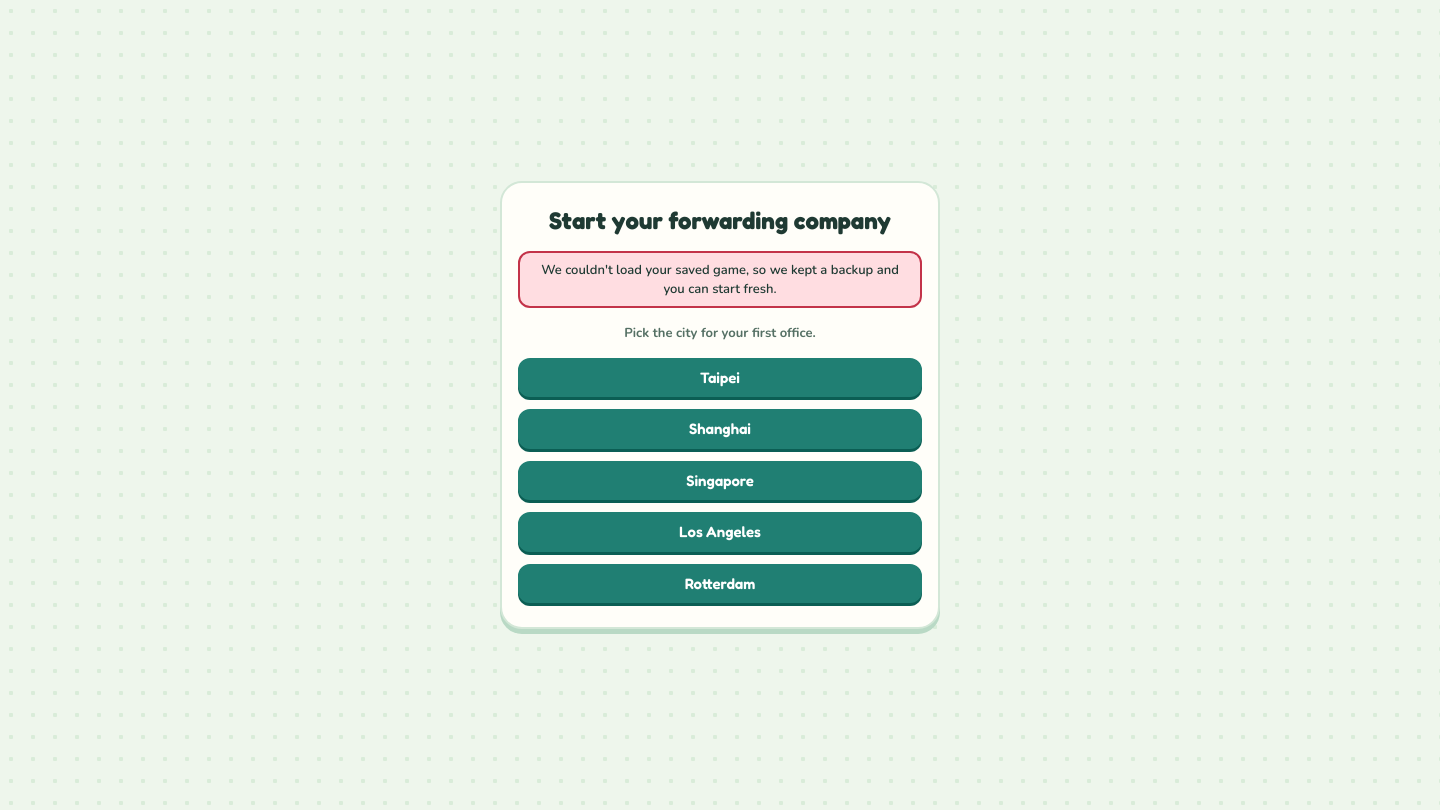
Test: App › a stored save that cannot be loaded › needs no confirmation when the backup was kept
This screenshot has width=1440, height=810.
Click the button "Taipei" at (720, 378), box [518,358,922,397]
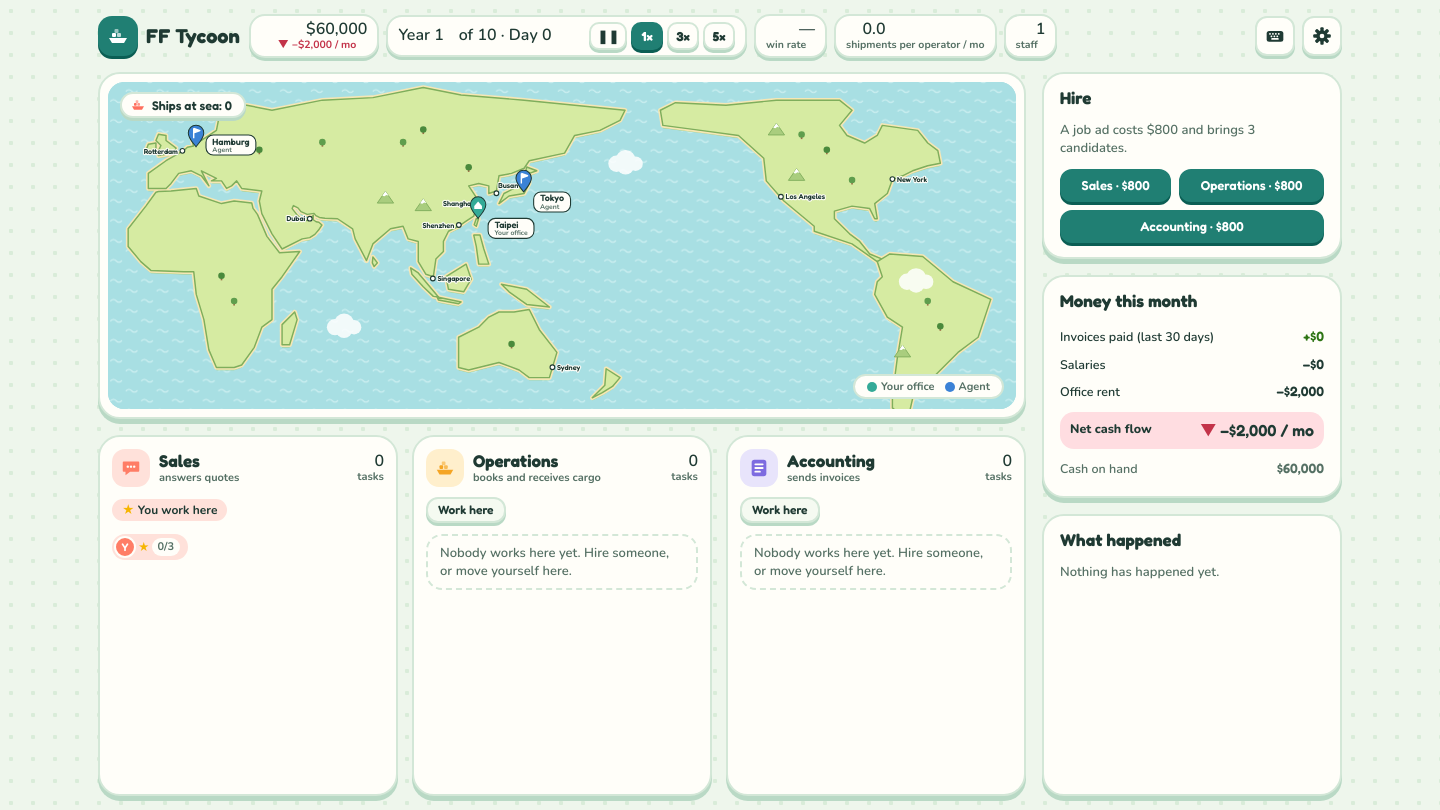
Now the element with class "game-body" is shown
